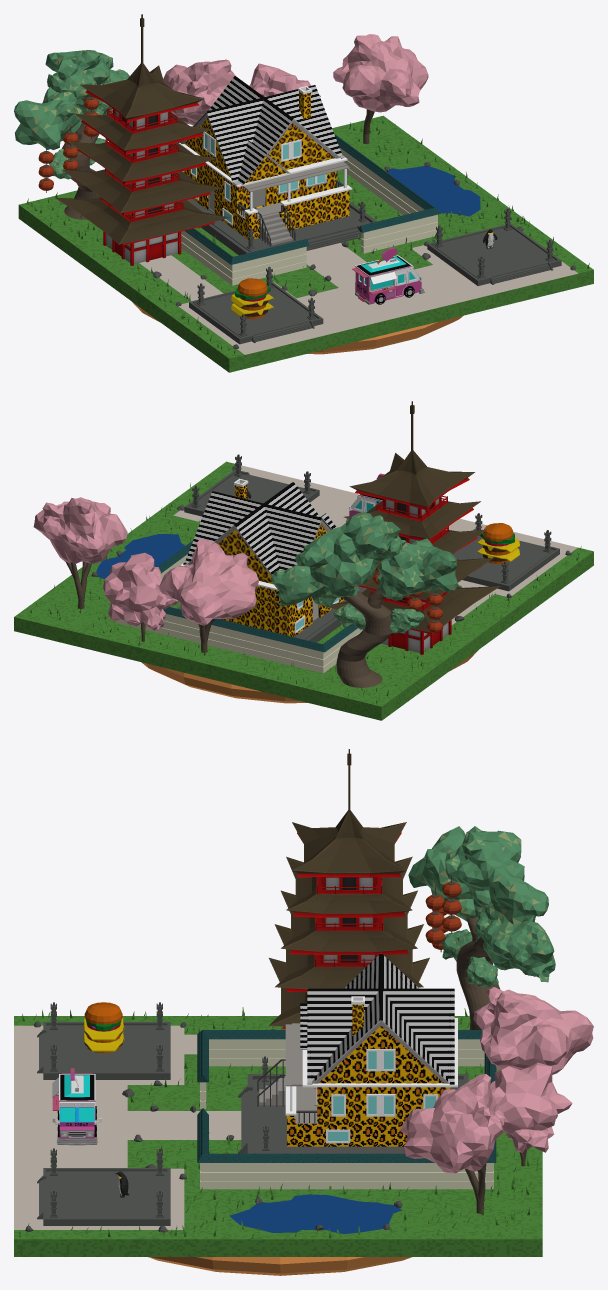
3 renders of one model, top to bottom at view 1: azimuth 30°, elevation 25°; view 2: azimuth 150°, elevation 25°; view 3: azimuth 270°, elevation 25°, orthographic. The views are drawn at different scales.
Visible parts, largest first — view 1: Cube.005, Cube.637, VEHICLES_ICE_CREAM_TRUCK, UNDERGROUND_PIZZA, OBJRANDOM_HAMBURGER; view 2: Cube.005, Cube.637, UNDERGROUND_PIZZA, OBJRANDOM_HAMBURGER, VEHICLES_ICE_CREAM_TRUCK; view 3: Cube.005, Cube.637, UNDERGROUND_PIZZA, VEHICLES_ICE_CREAM_TRUCK, OBJRANDOM_HAMBURGER.
Part boxes in pixels (<box>): Cube.005: <box>14,14,593,372</box>; Cube.637: <box>177,76,352,246</box>; VEHICLES_ICE_CREAM_TRUCK: <box>352,247,424,304</box>; UNDERGROUND_PIZZA: <box>132,302,463,354</box>; OBJRANDOM_HAMBURGER: <box>231,278,274,318</box>; Cube.005: <box>14,401,593,720</box>; Cube.637: <box>180,478,344,636</box>; UNDERGROUND_PIZZA: <box>141,650,478,703</box>; OBJRANDOM_HAMBURGER: <box>476,523,519,563</box>; VEHICLES_ICE_CREAM_TRUCK: <box>345,473,384,521</box>; Cube.005: <box>14,749,593,1256</box>; Cube.637: <box>257,953,457,1146</box>; UNDERGROUND_PIZZA: <box>148,1257,411,1275</box>; VEHICLES_ICE_CREAM_TRUCK: <box>52,1068,101,1145</box>; OBJRANDOM_HAMBURGER: <box>83,1002,124,1053</box>.
Size of the model in its own units: 4528 by 2902 by 4389.
Materials: 53 (6 with a texture image).
